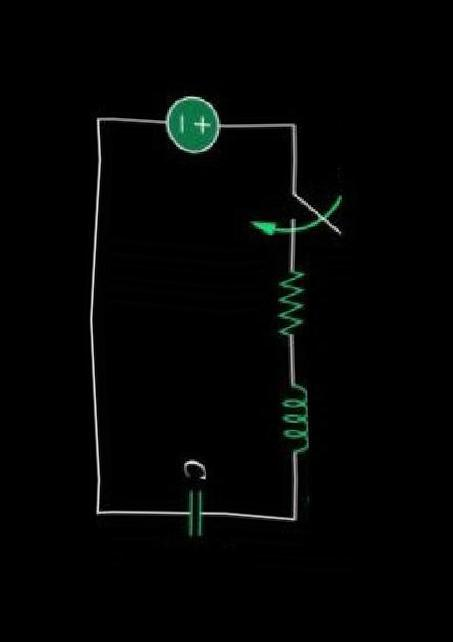Battery: (144, 76, 236, 175)
